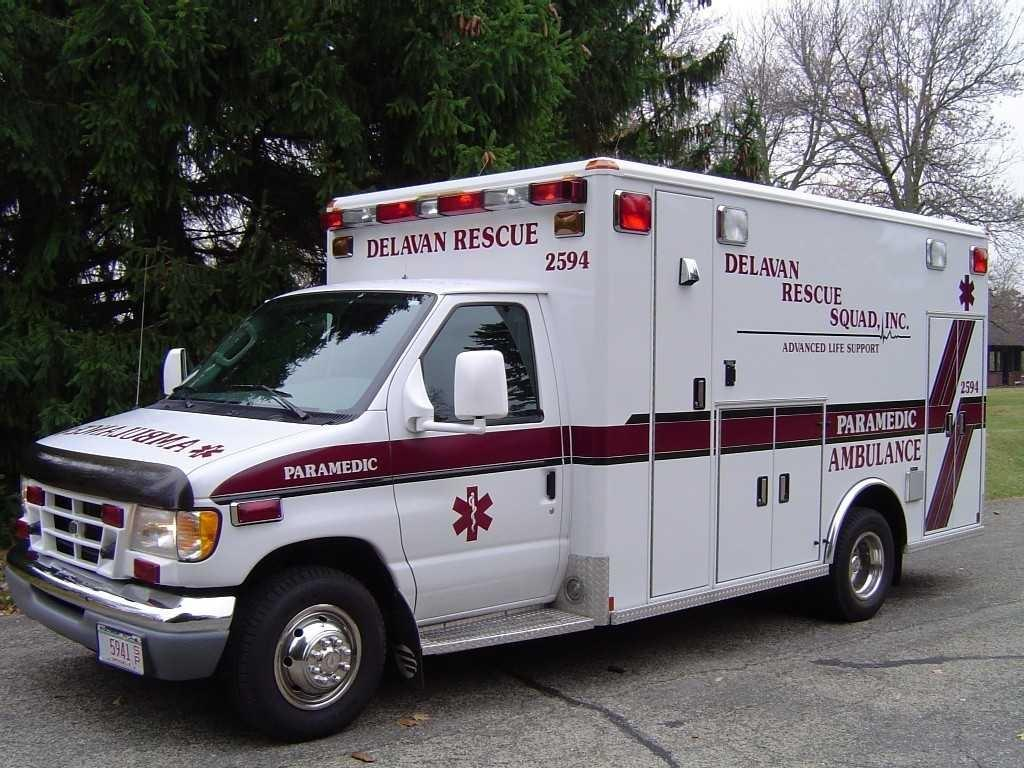car: (4, 154, 991, 741)
